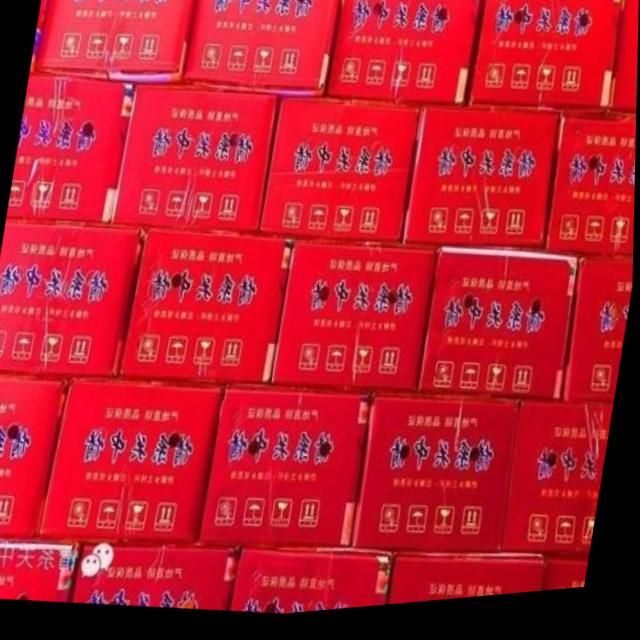box: (43, 378, 223, 547), (197, 390, 376, 551), (117, 232, 293, 389), (355, 401, 522, 565), (272, 244, 439, 401), (259, 96, 424, 248), (113, 86, 277, 238), (418, 256, 578, 407), (402, 115, 561, 263), (0, 221, 145, 381), (468, 0, 624, 126), (7, 73, 135, 225), (326, 0, 484, 116), (504, 412, 615, 567), (181, 0, 343, 101), (33, 0, 194, 87), (546, 123, 637, 268), (0, 375, 71, 545), (73, 548, 241, 615), (231, 551, 395, 619), (566, 267, 635, 416), (390, 558, 547, 612), (0, 542, 80, 604), (610, 0, 639, 128), (546, 564, 592, 601)
